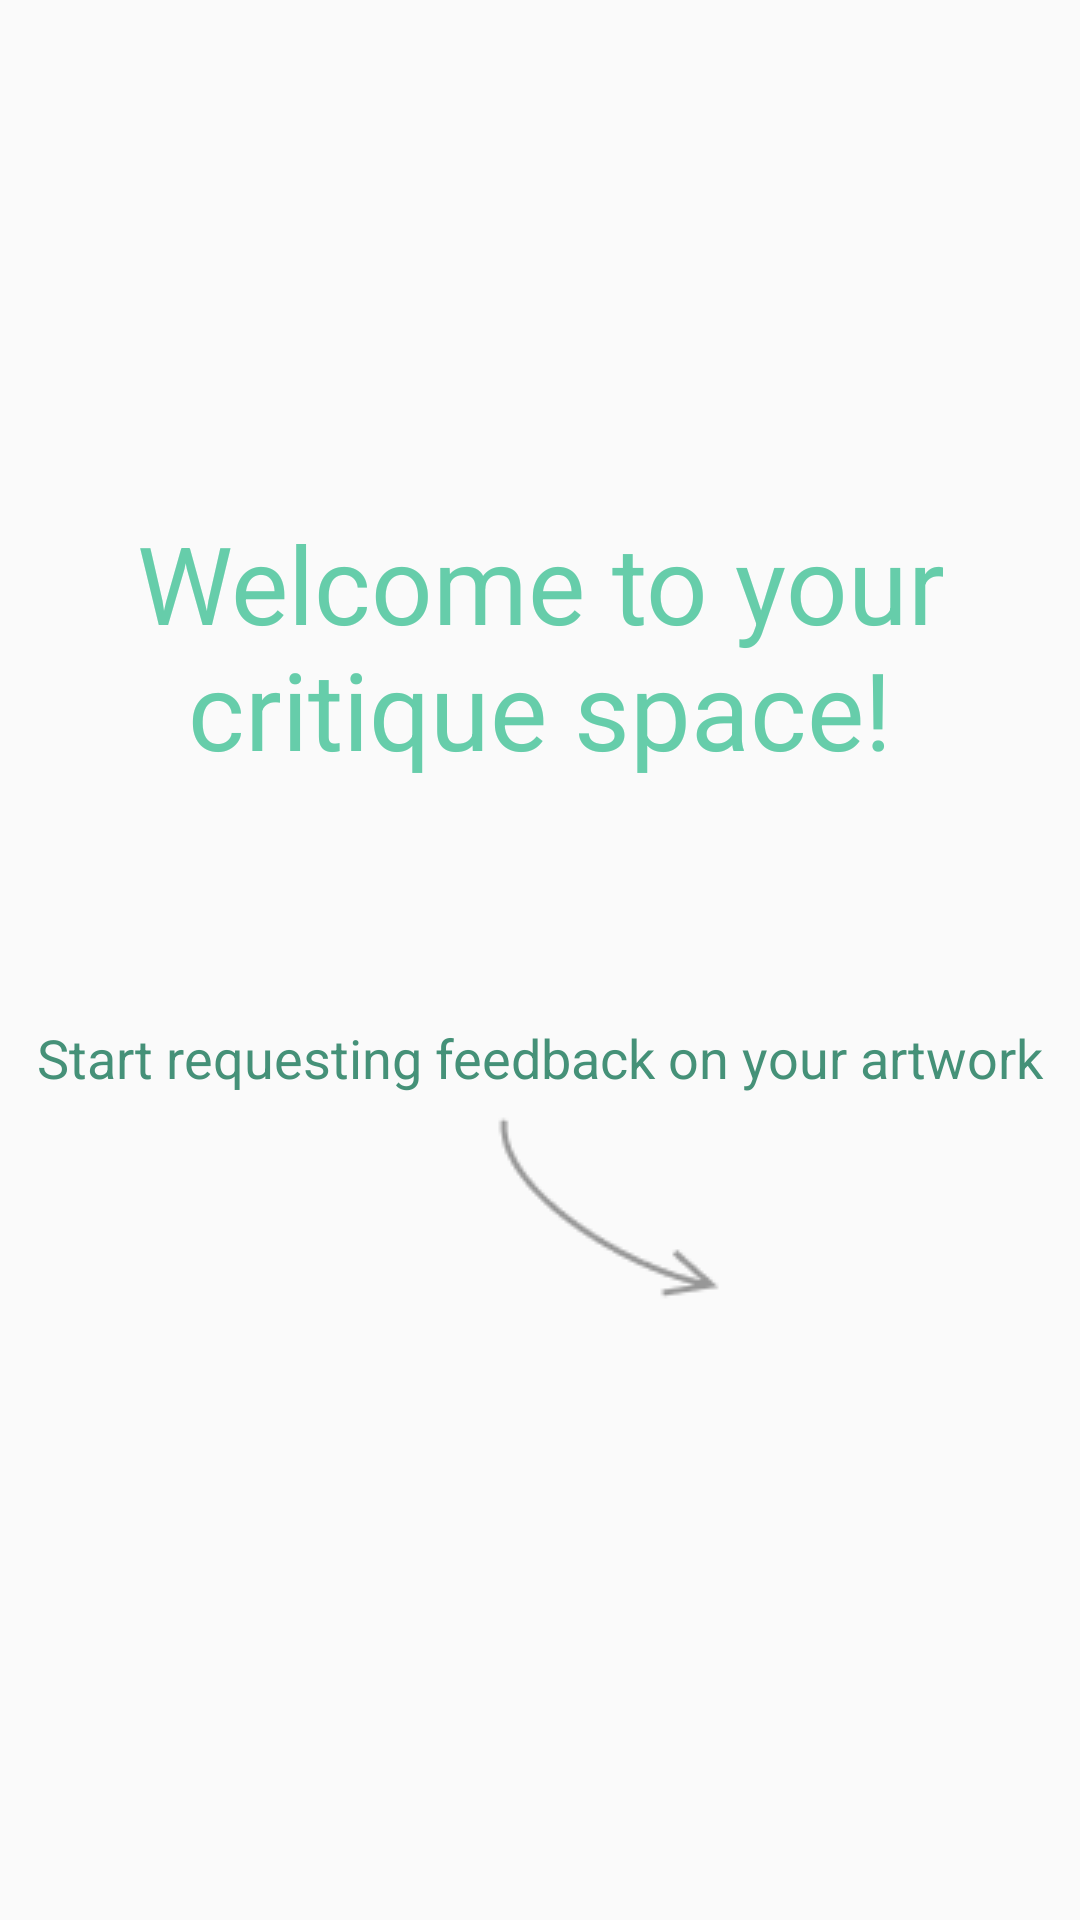

Where icons sit on this 1080 × 1920 app screen, as region(x1, y1, x2, y2):
arrow: region(499, 1119, 718, 1296)
